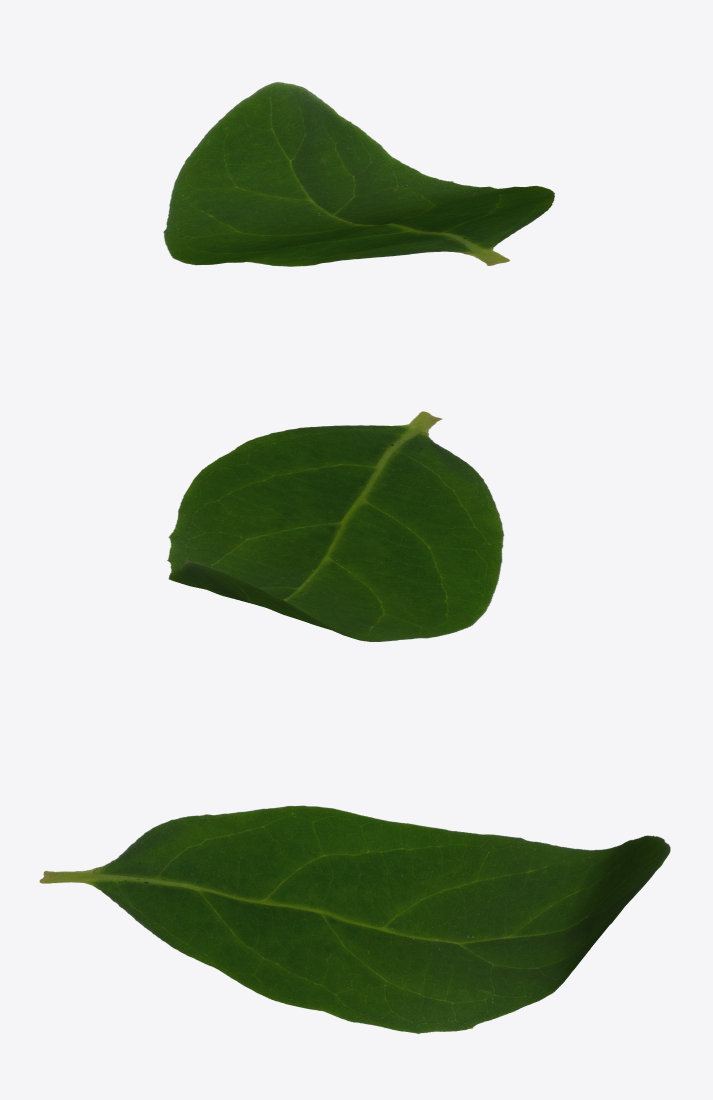
Rendered from leaf.glb.
3 renders of one model, top to bottom at view 1: azimuth 30°, elevation 25°; view 2: azimuth 150°, elevation 25°; view 3: azimuth 270°, elevation 25°, orthographic. The views are drawn at different scales.
Visible parts, largest first — view 1: Plane_remesh; view 2: Plane_remesh; view 3: Plane_remesh.
Boxes of the visible parts, x1,y1,x2,y2 form: Plane_remesh: (163, 82, 554, 266); Plane_remesh: (167, 411, 504, 641); Plane_remesh: (39, 805, 670, 1033).
Size of the model in its own units: 402 by 85.21 by 385.
1 material, 1 textured.
